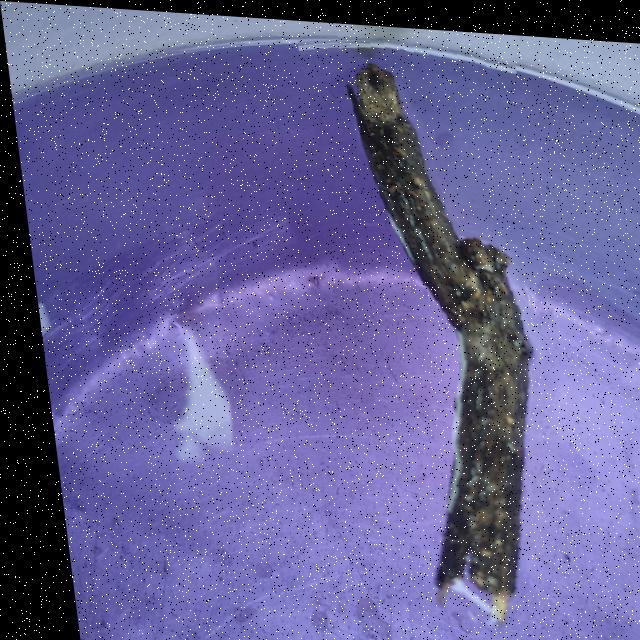wood: (307, 24, 578, 640)
